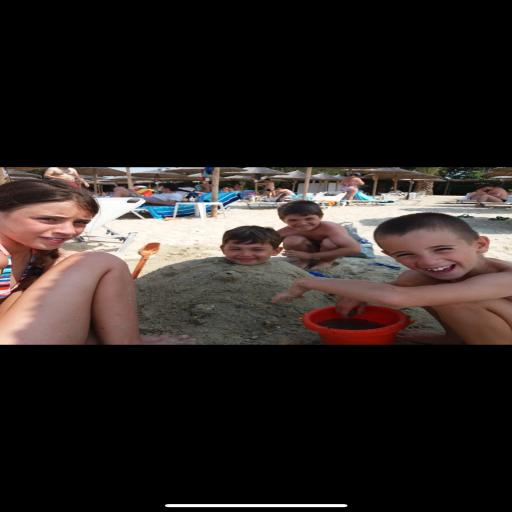masa: (0, 201, 94, 284)
